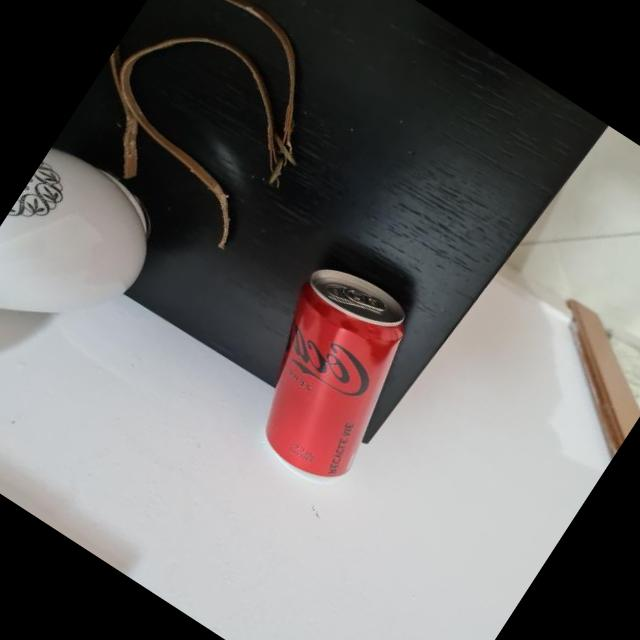Kaleng: (212, 251, 442, 498)
